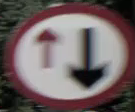Two way: (17, 12, 110, 100)
